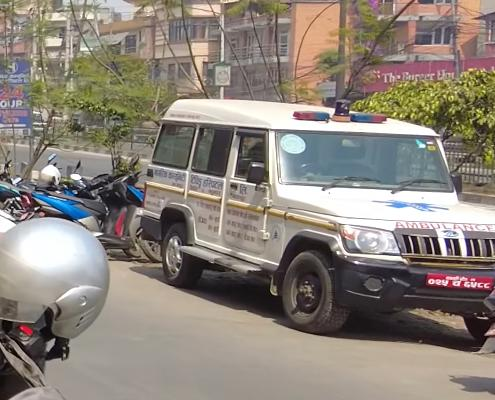ambulance: (132, 88, 495, 355)
